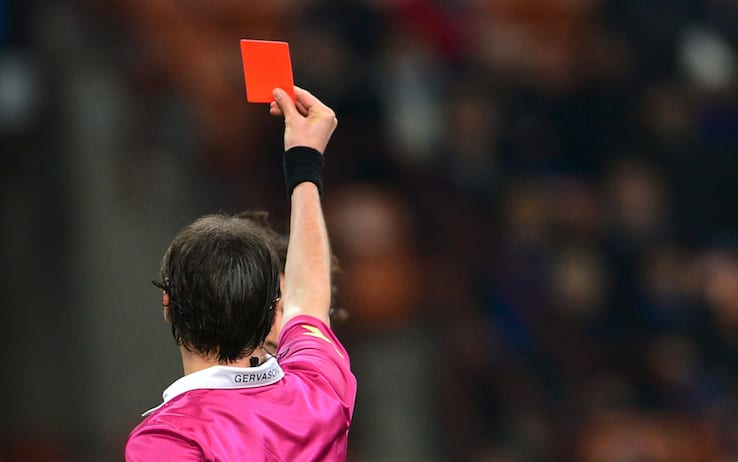red_card: (230, 28, 350, 155)
